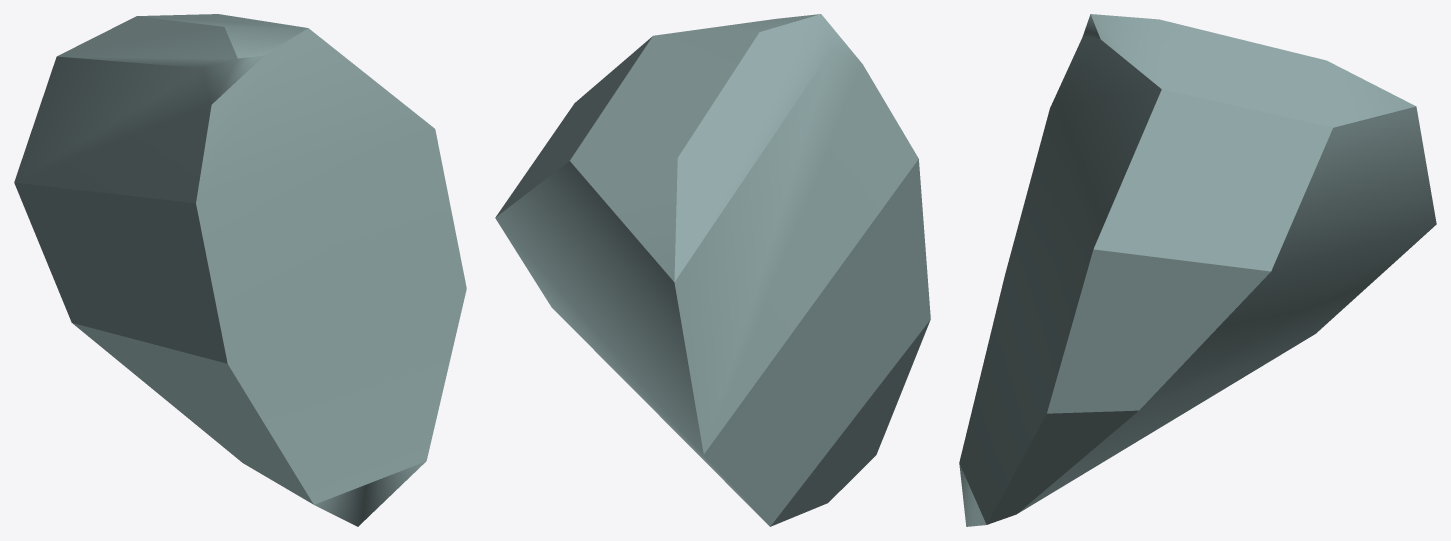
Rendered from rock2_coloured.fbx.
The picture shows the model from 3 angles, left to right: view 1: azimuth 30°, elevation 25°; view 2: azimuth 150°, elevation 25°; view 3: azimuth 270°, elevation 25°; orthographic projection. The views are drawn at different scales.
Visible parts, largest first — view 1: pSphere2; view 2: pSphere2; view 3: pSphere2.
Boxes of the visible parts, x1=… form: pSphere2: x1=14, y1=14, x2=466, y2=526; pSphere2: x1=495, y1=14, x2=930, y2=526; pSphere2: x1=959, y1=14, x2=1436, y2=526.
Size of the model in its own units: 0.9821 by 1.53 by 1.37.
